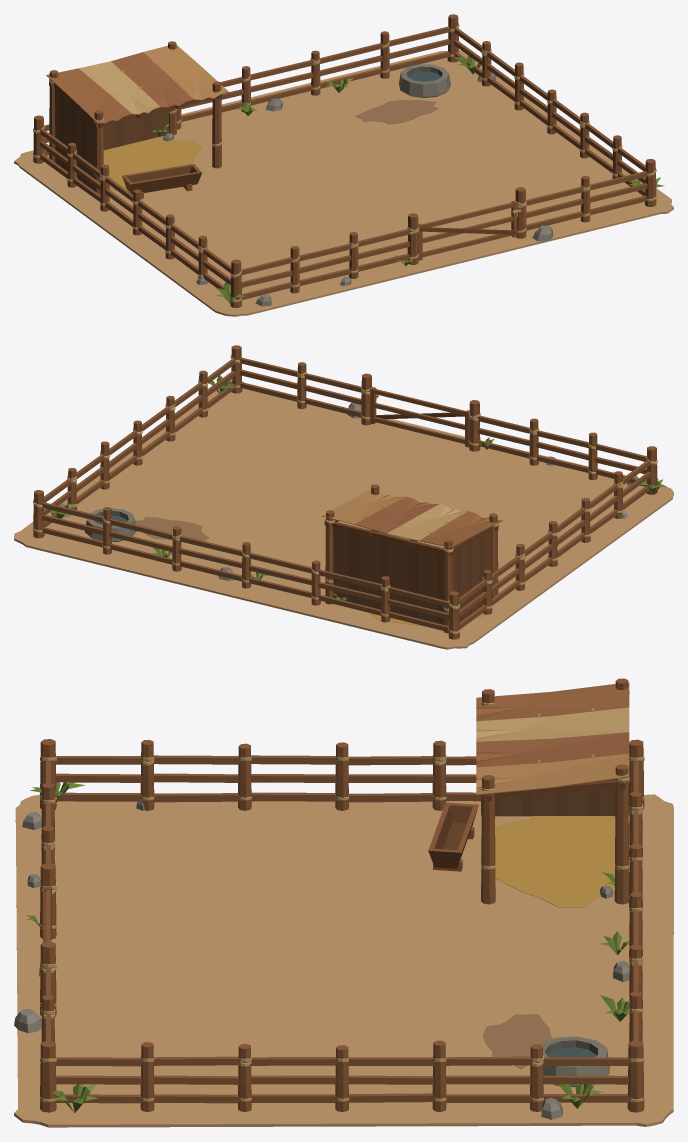
Rendered from boar_pen.glb.
3 views of the same model, one above another, from view 1: azimuth 30°, elevation 25°; view 2: azimuth 150°, elevation 25°; view 3: azimuth 270°, elevation 25° (orthographic). The views are drawn at different scales.
Parts seen in each view (by area): view 1: Sand and straw, Timber rails, Fence posts and rawhide, Sewn shelter hides, Shelter, Gate, Hollow feed trough, Water basin, Broadleaf plants, Footing stones; view 2: Sand and straw, Timber rails, Shelter, Fence posts and rawhide, Sewn shelter hides, Gate, Water basin, Broadleaf plants; view 3: Sand and straw, Timber rails, Fence posts and rawhide, Sewn shelter hides, Shelter, Hollow feed trough, Broadleaf plants, Water basin, Footing stones.
Part boxes in pixels (left/top/right/bottom): Sand and straw: left=14, top=50, right=673, bottom=316; Timber rails: left=39, top=26, right=647, bottom=299; Fence posts and rawhide: left=33, top=14, right=656, bottom=307; Sewn shelter hides: left=46, top=45, right=228, bottom=123; Shelter: left=49, top=41, right=222, bottom=194; Gate: left=418, top=200, right=517, bottom=260; Hollow feed trough: left=122, top=164, right=202, bottom=198; Water basin: left=399, top=64, right=450, bottom=98; Broadleaf plants: left=151, top=55, right=664, bottom=303; Footing stones: left=163, top=72, right=553, bottom=306; Sand and straw: left=14, top=381, right=673, bottom=649; Timber rails: left=42, top=357, right=650, bottom=632; Shelter: left=324, top=484, right=498, bottom=633; Fence posts and rawhide: left=33, top=345, right=657, bottom=639; Sewn shelter hides: left=322, top=489, right=502, bottom=547; Gate: left=370, top=387, right=469, bottom=447; Water basin: left=85, top=508, right=136, bottom=541; Broadleaf plants: left=49, top=375, right=666, bottom=600; Sand and straw: left=14, top=793, right=673, bottom=1127; Timber rails: left=46, top=755, right=638, bottom=1103; Fence posts and rawhide: left=40, top=739, right=644, bottom=1112; Sewn shelter hides: left=476, top=682, right=629, bottom=795; Shelter: left=480, top=678, right=629, bottom=904; Hollow feed trough: left=428, top=802, right=478, bottom=871; Broadleaf plants: left=26, top=782, right=629, bottom=1112; Water basin: left=541, top=1036, right=609, bottom=1087; Footing stones: left=14, top=800, right=629, bottom=1119.
Bounding box in the file's own units: 21.39 × 4.12 × 17.97.
